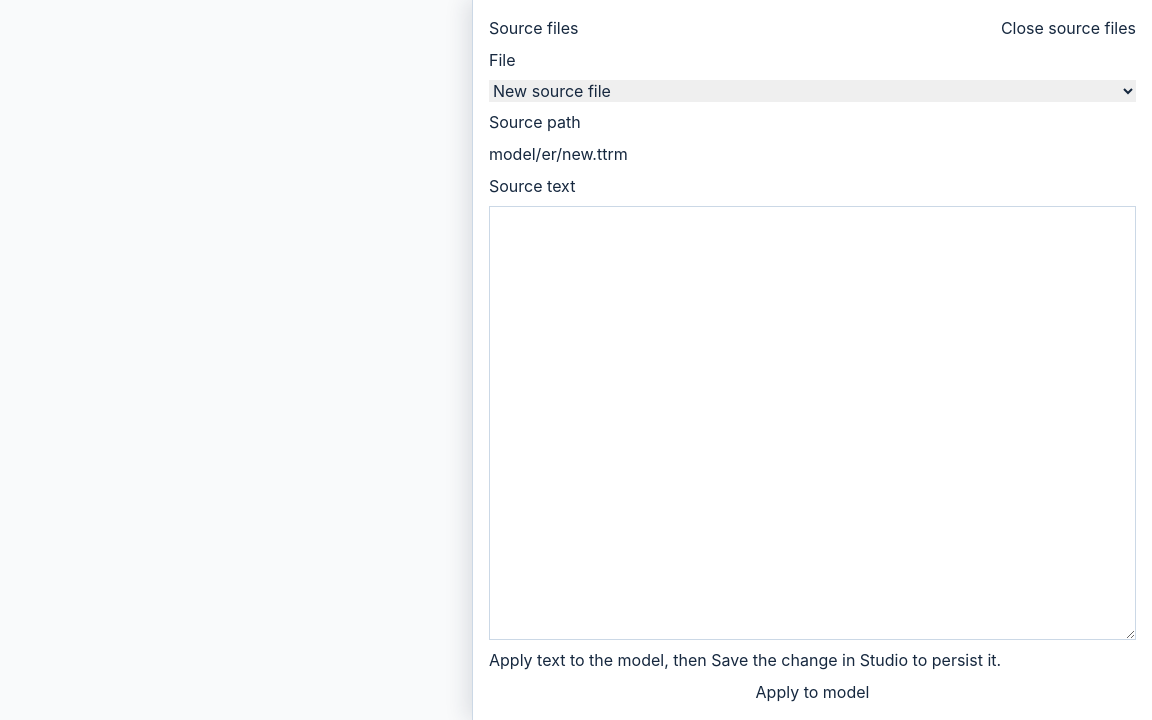
it: R148-R11 refuses Apply when a structured edit changed the selected file
Select "model/er/a.ttrm" in the dropdown labelled "File" at (812,91), box top-left (489, 80), bottom-right (1136, 102)
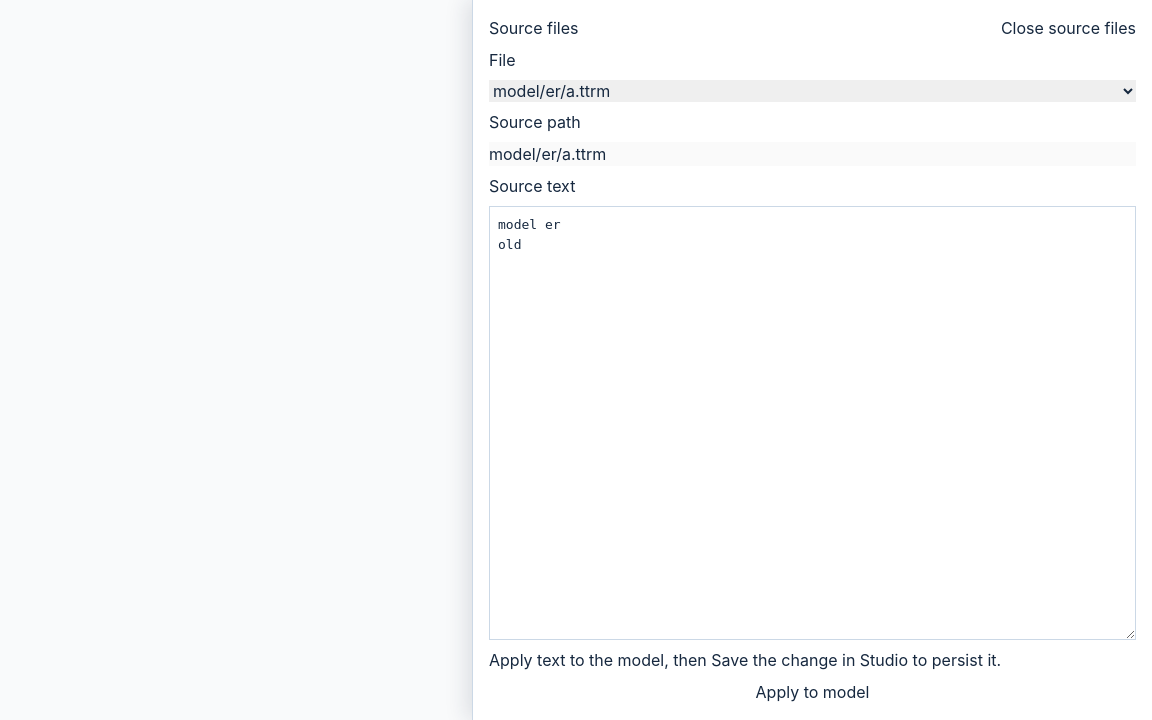
Replace the text in the text box labelled "Source text" with "drawer edit" at (812,423), box top-left (489, 206), bottom-right (1136, 640)
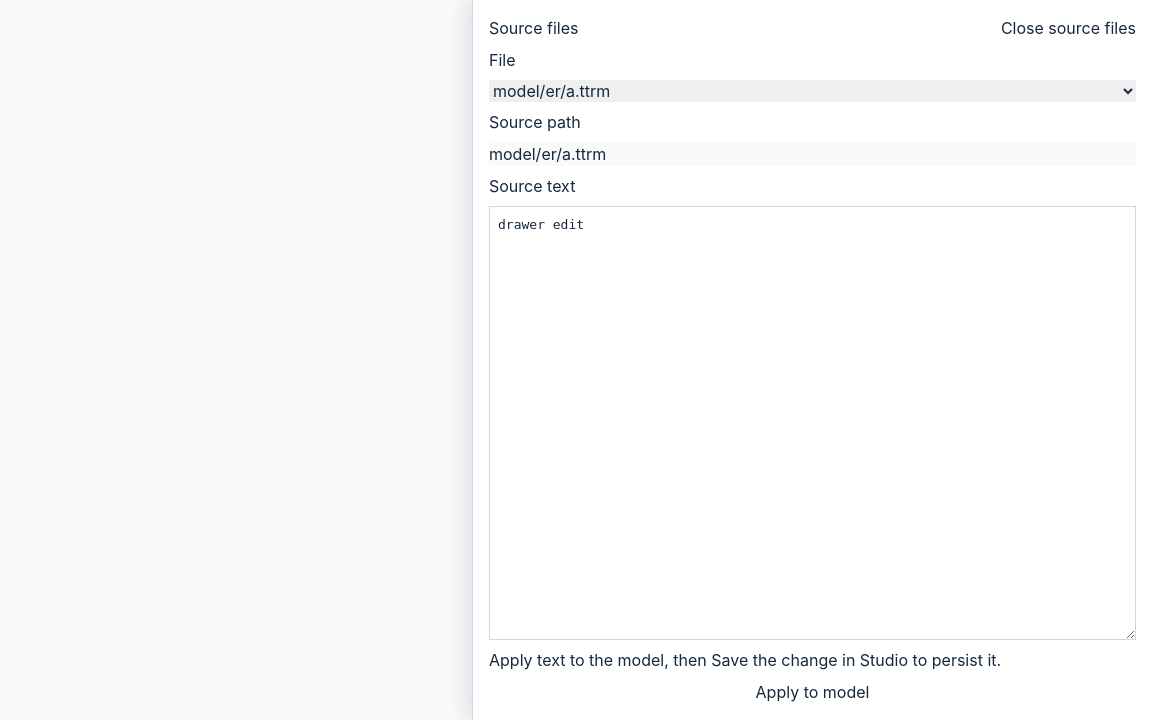
Click the button "Apply to model" at (812,692), box top-left (489, 680), bottom-right (1136, 704)
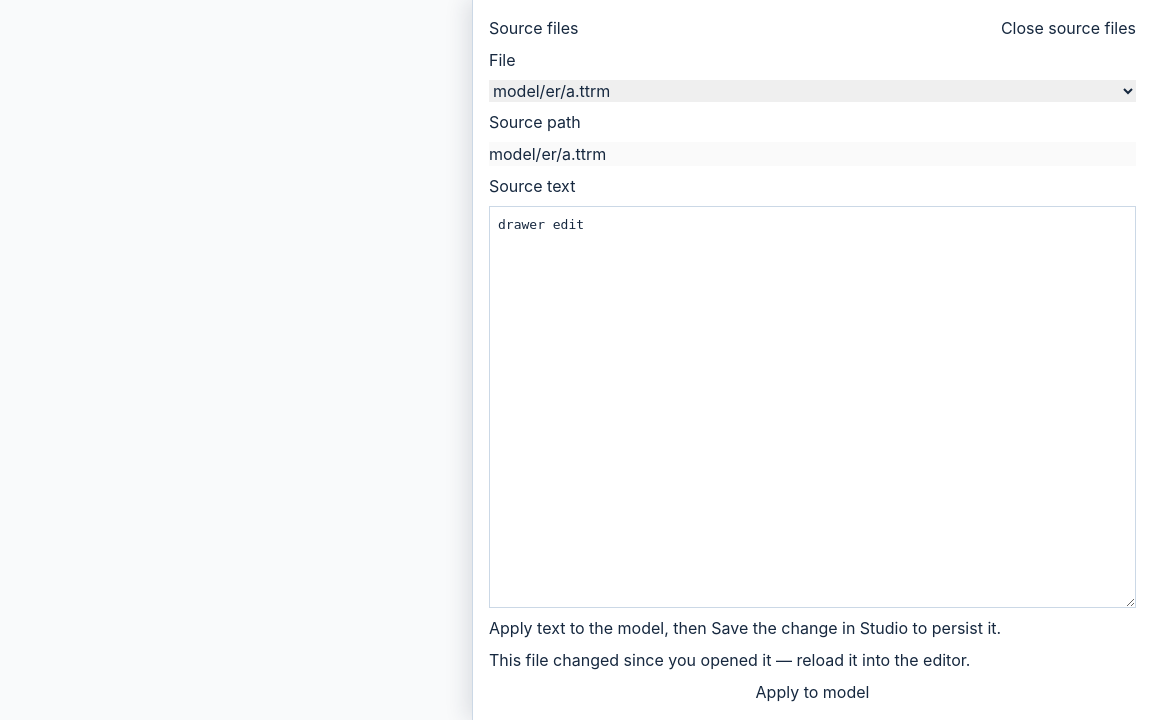
Expected: the message shows "changed since you opened", top-left (489, 650), bottom-right (970, 670)
